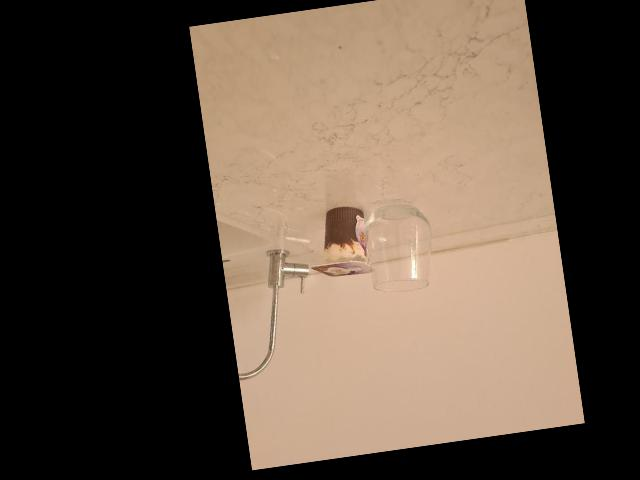milky: (312, 205, 378, 279)
